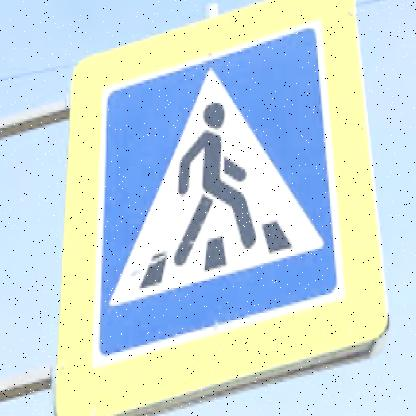crosswalk: (95, 20, 340, 360)
